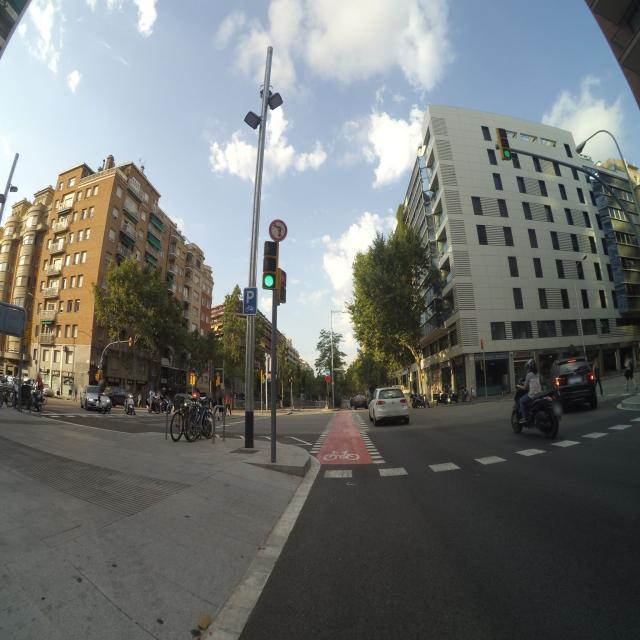bike: (511, 380, 562, 438), (169, 396, 201, 442), (186, 402, 215, 442), (85, 392, 112, 414), (145, 394, 163, 414), (159, 394, 172, 414), (411, 394, 429, 408), (125, 393, 136, 415)
car: (550, 357, 598, 412), (368, 386, 410, 426), (80, 385, 108, 411), (103, 387, 133, 408), (353, 395, 368, 410)
